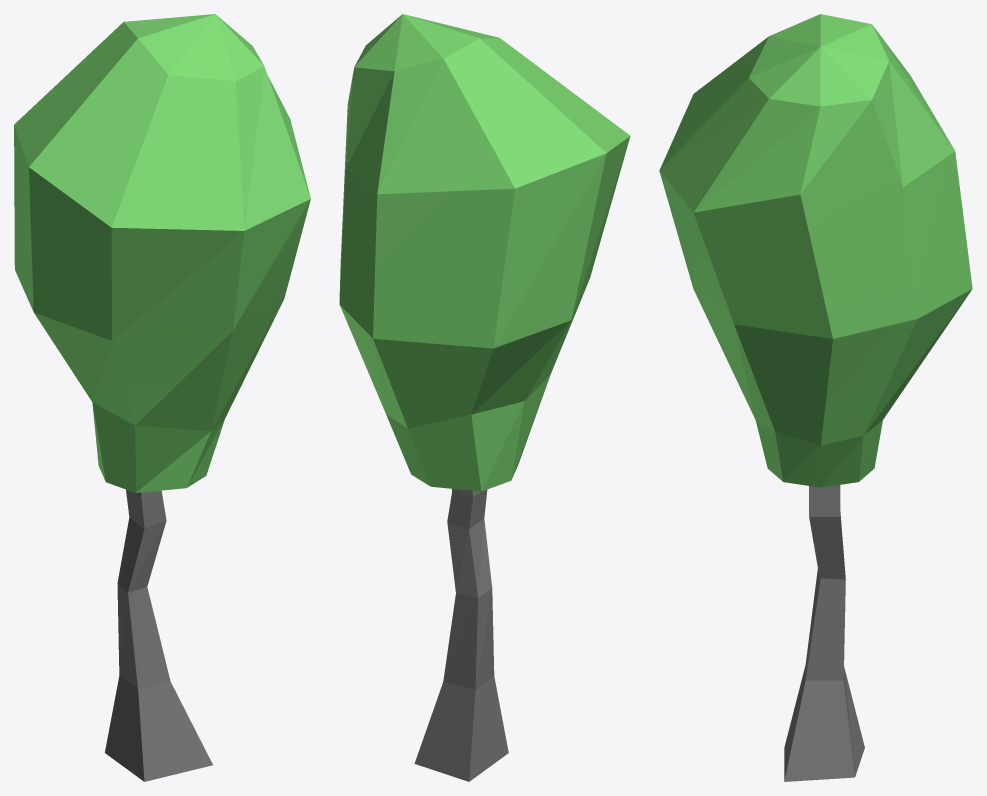
File: Birch_B.fbx
The picture shows the model from 3 angles, left to right: view 1: azimuth 30°, elevation 25°; view 2: azimuth 150°, elevation 25°; view 3: azimuth 270°, elevation 25°; orthographic projection. The views are drawn at different scales.
Visible parts, largest first — view 1: Birch_B; view 2: Birch_B; view 3: Birch_B.
Part boxes in pixels (x1,y1,x2,y2): Birch_B: (14, 14, 310, 781); Birch_B: (339, 14, 630, 781); Birch_B: (659, 14, 972, 781).
Bounding box in the file's own units: 92.11 × 248 × 94.36.
